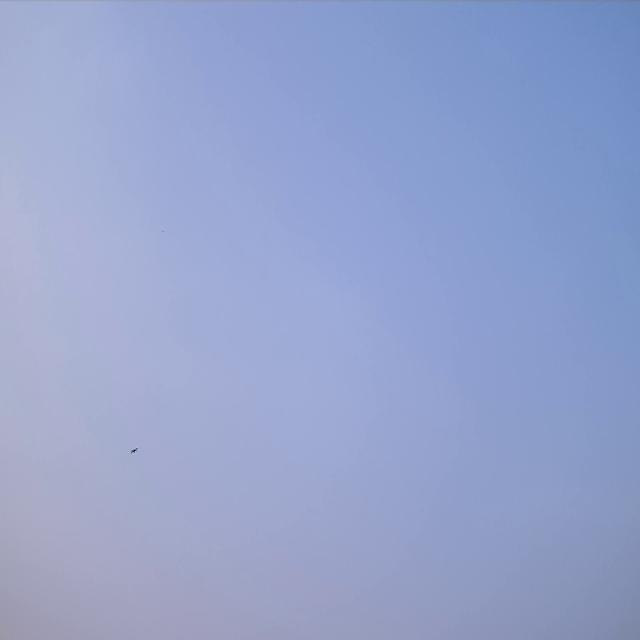UAV: (130, 446, 138, 455)
